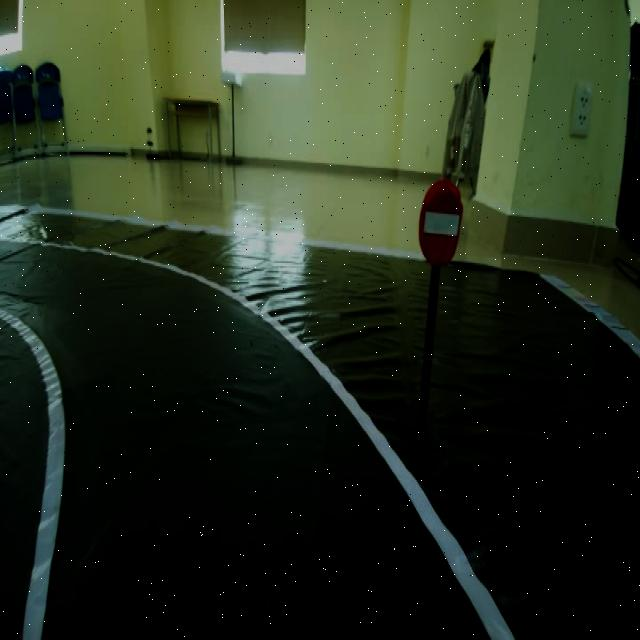no_entry: (414, 170, 470, 277)
